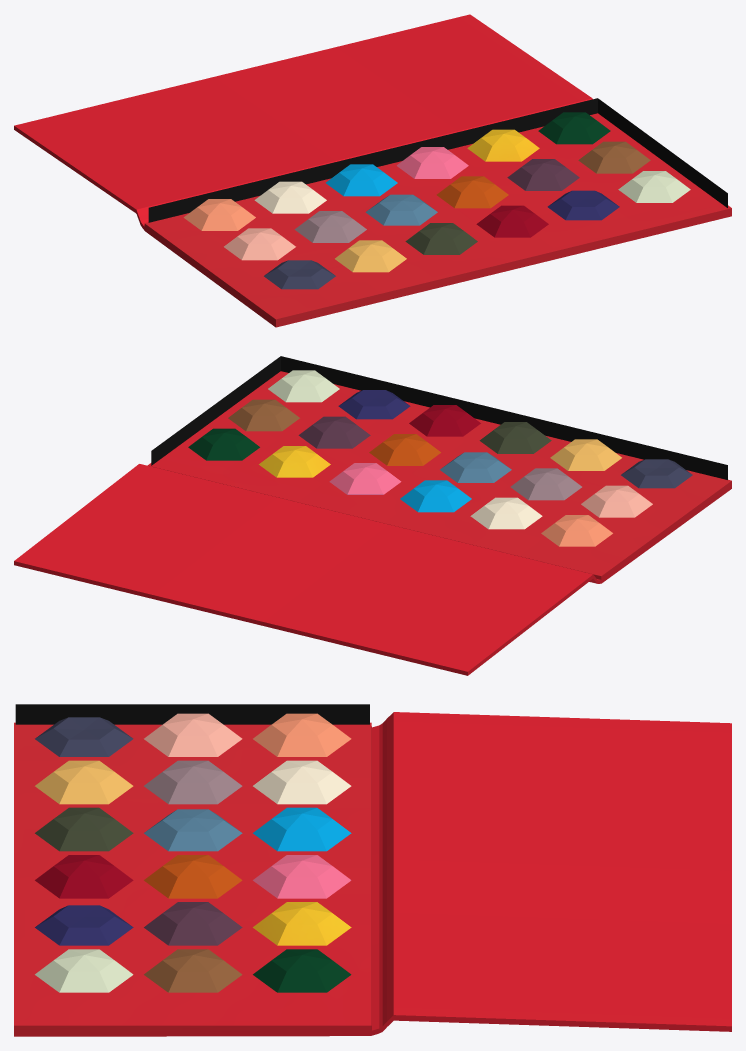
File: palette.fbx
3 renders of one model, top to bottom at view 1: azimuth 30°, elevation 25°; view 2: azimuth 150°, elevation 25°; view 3: azimuth 270°, elevation 25°, orthographic. The views are drawn at different scales.
Visible parts, largest first — view 1: palette; view 2: palette; view 3: palette.
Boxes of the visible parts, left/top/right/bottom form: palette: left=14, top=14, right=731, bottom=327; palette: left=14, top=356, right=731, bottom=675; palette: left=14, top=704, right=731, bottom=1036.
Bounding box in the file's own units: 0.3083 × 0.0224 × 0.3074.
